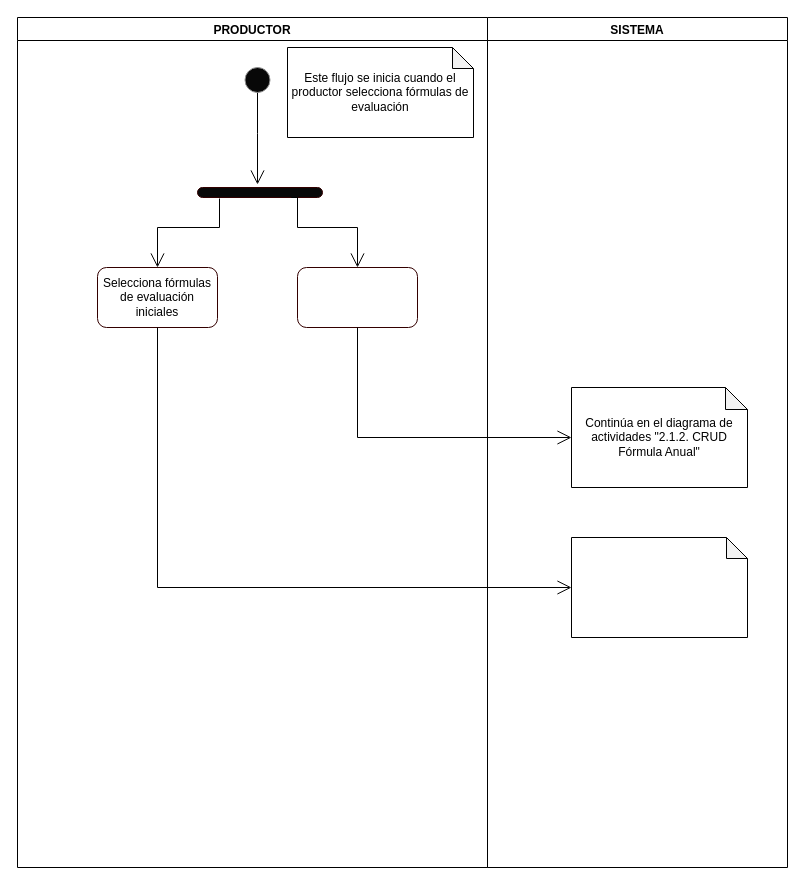
Image size: 805x885. Some labels were removed from this diagram. The box of each missing label's shape, as (x1, y1, x2, y2) in pixels:
Continúa en el diagrama de actividades "2.1.1. CRUD Fórmula Inicial": (570, 536, 748, 638)
Selecciona fórmulas de evaluación anuales: (296, 266, 418, 328)
